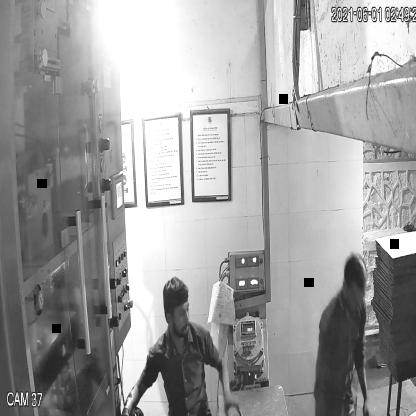no_goggles: (162, 298, 193, 322)
